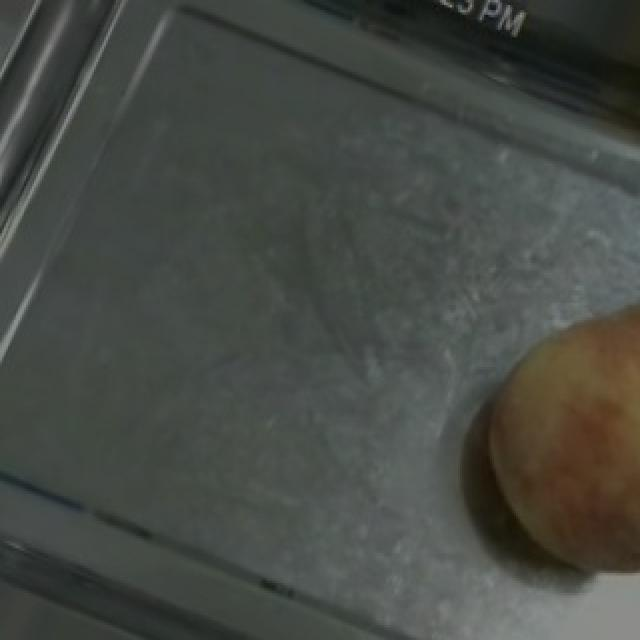Fruit: (444, 276, 640, 606)
